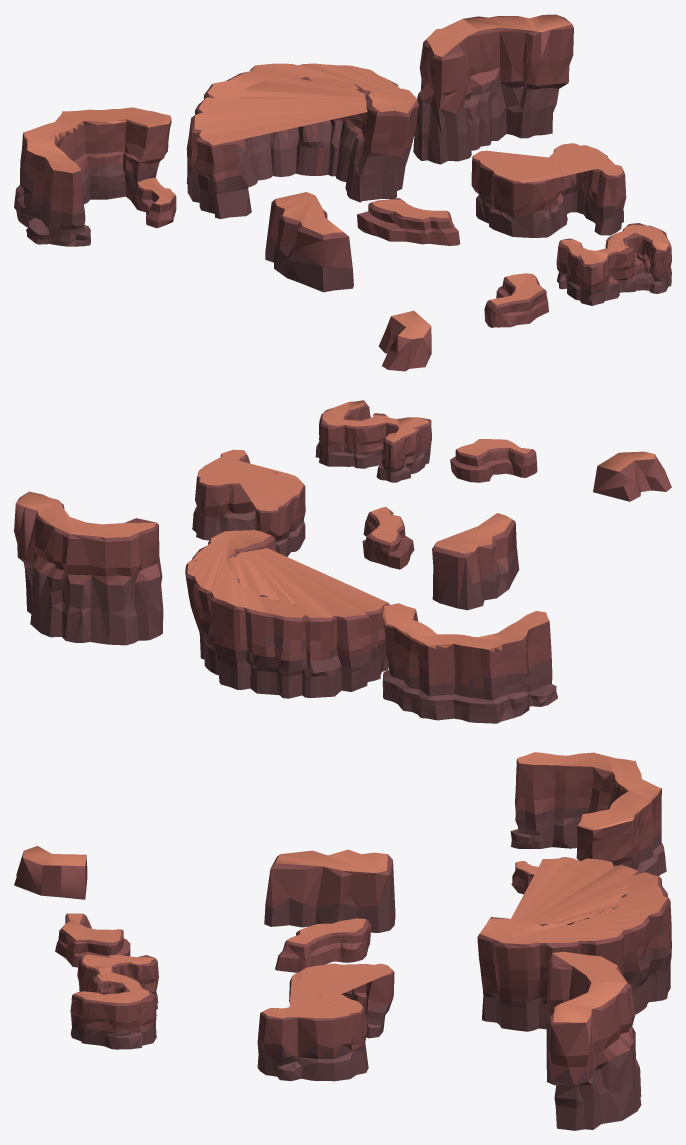
The model's file is CanyonCliff_additional.fbx.
3 views of the same model, one above another, from view 1: azimuth 30°, elevation 25°; view 2: azimuth 150°, elevation 25°; view 3: azimuth 270°, elevation 25° (orthographic). The views are drawn at different scales.
Parts seen in each view (by area): view 1: CanyonCliff_2, CanyonCliff_7, CanyonCliff_1, CanyonCliff_9, CanyonCliff_6, CanyonCliff_8, CanyonCliff_3, CanyonCliff_4, CanyonCliff_5; view 2: CanyonCliff_2, CanyonCliff_7, CanyonCliff_1, CanyonCliff_9, CanyonCliff_6, CanyonCliff_8, CanyonCliff_4, CanyonCliff_5, CanyonCliff_3; view 3: CanyonCliff_2, CanyonCliff_1, CanyonCliff_7, CanyonCliff_9, CanyonCliff_8, CanyonCliff_6, CanyonCliff_3, CanyonCliff_5, CanyonCliff_4.
Boxes of the visible parts, box(x1,y1,x2,y2) form: CanyonCliff_2: box(186, 63, 418, 218); CanyonCliff_7: box(413, 14, 573, 164); CanyonCliff_1: box(14, 107, 176, 246); CanyonCliff_9: box(471, 143, 626, 237); CanyonCliff_6: box(556, 223, 671, 305); CanyonCliff_8: box(265, 192, 353, 292); CanyonCliff_3: box(357, 198, 460, 245); CanyonCliff_4: box(484, 273, 548, 327); CanyonCliff_5: box(378, 310, 431, 371); CanyonCliff_2: box(185, 530, 389, 698); CanyonCliff_7: box(14, 491, 163, 645); CanyonCliff_1: box(382, 603, 557, 723); CanyonCliff_9: box(192, 449, 305, 556); CanyonCliff_6: box(315, 400, 431, 482); CanyonCliff_8: box(432, 513, 519, 610); CanyonCliff_4: box(450, 439, 537, 482); CanyonCliff_5: box(593, 451, 671, 501); CanyonCliff_3: box(362, 507, 414, 569); CanyonCliff_2: box(477, 857, 671, 1031); CanyonCliff_1: box(510, 752, 666, 894); CanyonCliff_7: box(546, 951, 641, 1130); CanyonCliff_9: box(257, 963, 394, 1081); CanyonCliff_8: box(264, 849, 395, 932); CanyonCliff_6: box(70, 954, 158, 1049); CanyonCliff_3: box(275, 918, 370, 972); CanyonCliff_5: box(14, 846, 87, 899); CanyonCliff_4: box(55, 913, 130, 967).
Bounding box in the file's own units: 1695 × 318 × 1623.
